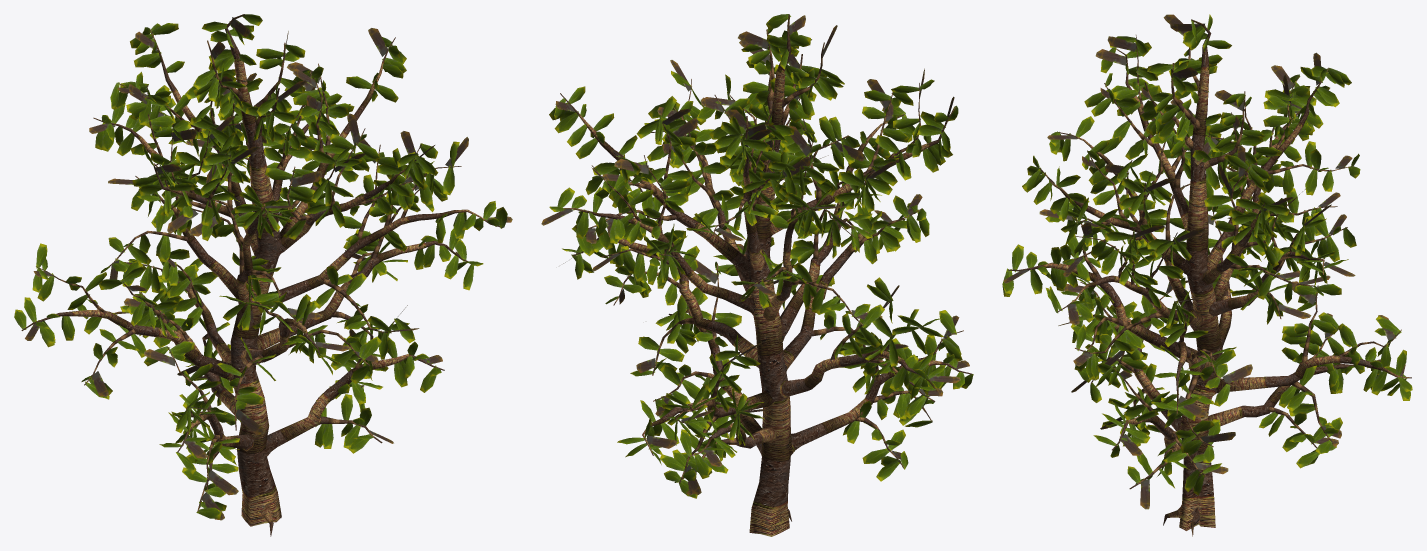
File: Tree_Trop_2.fbx
3 views of the same model, side by side, from view 1: azimuth 30°, elevation 25°; view 2: azimuth 150°, elevation 25°; view 3: azimuth 270°, elevation 25° (orthographic). The views are drawn at different scales.
Parts seen in each view (by area): view 1: LOD0; view 2: LOD0; view 3: LOD0.
Boxes of the visible parts, x1,y1,x2,y2 form: LOD0: (14, 14, 512, 536); LOD0: (541, 14, 973, 536); LOD0: (1002, 14, 1412, 536).
Size of what is drawn, in the model's own units: 10.79 by 12.76 by 9.47.
